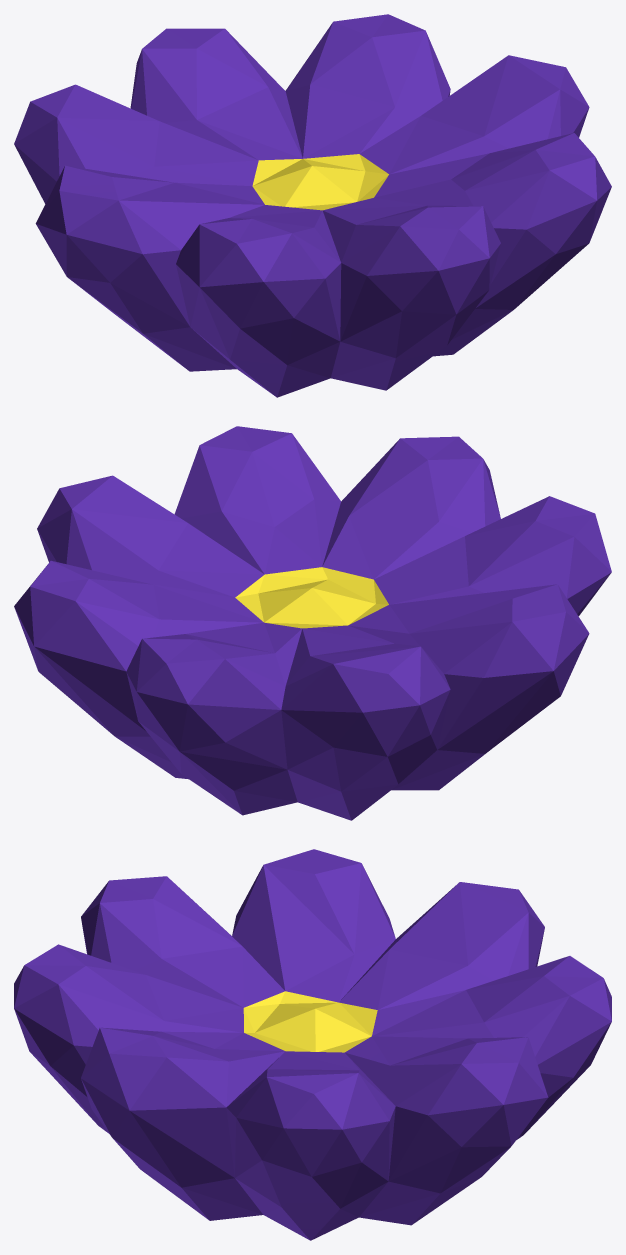
The model's file is fantasy_plant_069.fbx.
3 views of the same model, one above another, from view 1: azimuth 30°, elevation 25°; view 2: azimuth 150°, elevation 25°; view 3: azimuth 270°, elevation 25° (orthographic).
Parts seen in each view (by area): view 1: fantasy_plant.069; view 2: fantasy_plant.069; view 3: fantasy_plant.069.
Part boxes in pixels (x1,y1,x2,y2): fantasy_plant.069: (14,14,611,397); fantasy_plant.069: (14,426,611,820); fantasy_plant.069: (14,849,611,1240).
Bounding box in the file's own units: 506 × 204 × 505.
1 material, 1 textured.
